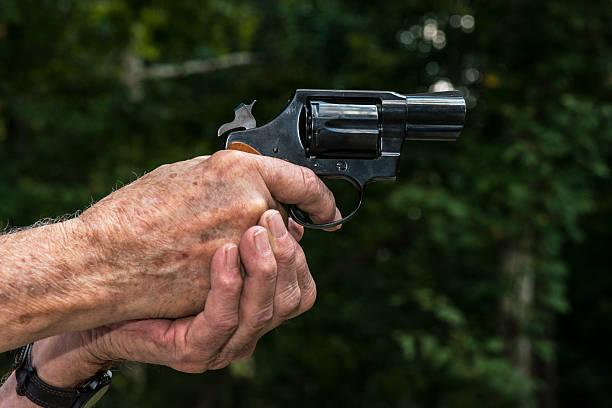weapon: (214, 84, 469, 231)
